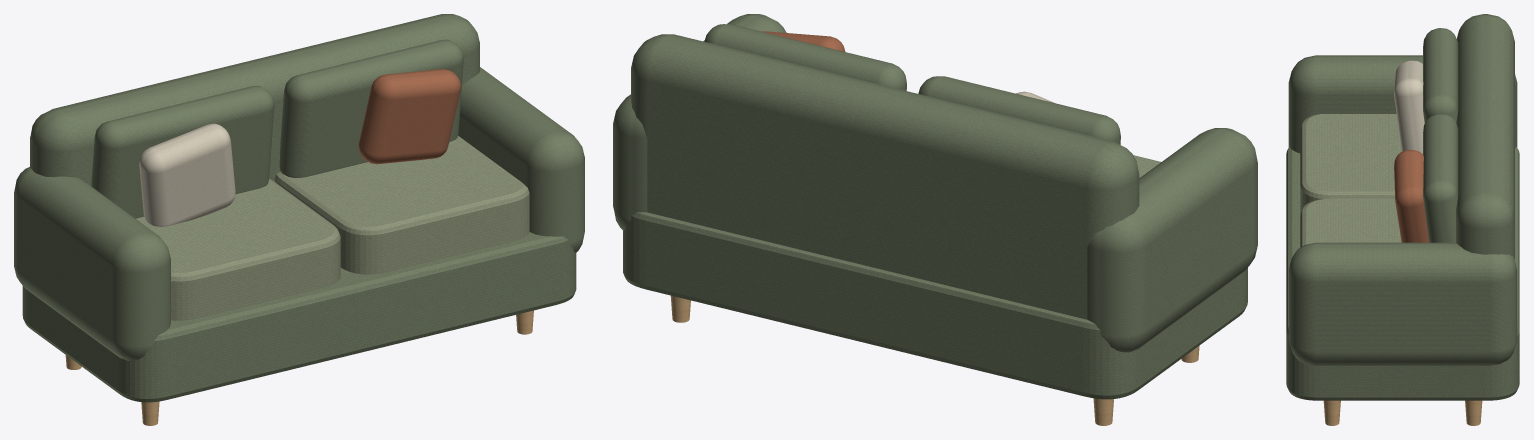
Rendered from sofa.glb.
3 views of the same model, side by side, from view 1: azimuth 30°, elevation 25°; view 2: azimuth 150°, elevation 25°; view 3: azimuth 270°, elevation 25° (orthographic). The views are drawn at different scales.
Visible parts, largest first — view 1: Lounge_fabric (×4), Lounge_oak; view 2: Lounge_fabric (×2), Lounge_oak; view 3: Lounge_fabric (×4), Lounge_oak.
Boxes of the visible parts, x1,y1,x2,y2 form: Lounge_fabric (×4): (14,14,584,402); Lounge_oak: (65,310,533,425); Lounge_fabric (×2): (613,14,1257,399); Lounge_oak: (670,295,1199,425); Lounge_fabric (×4): (1286,14,1519,400); Lounge_oak: (1323,400,1482,425).
Size of the model in its own units: 2.13 by 1.09 by 0.99.
5 materials, 5 textured.
